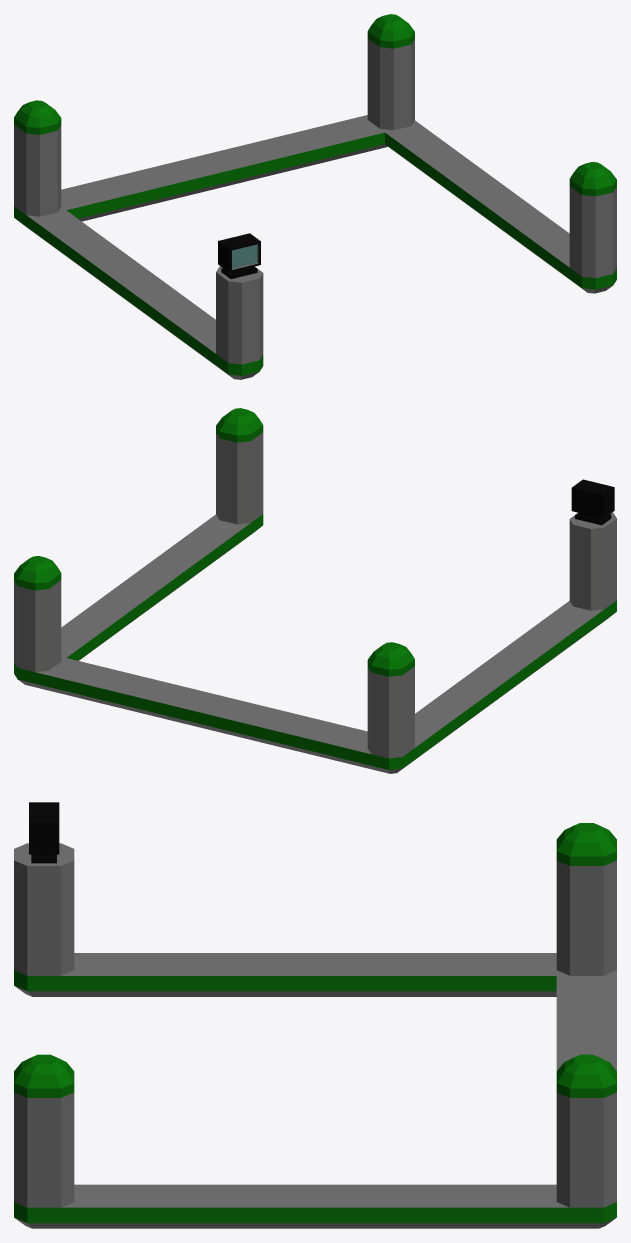
Rendered from structureSpawner.fbx.
3 renders of one model, top to bottom at view 1: azimuth 30°, elevation 25°; view 2: azimuth 150°, elevation 25°; view 3: azimuth 270°, elevation 25°, orthographic. The views are drawn at different scales.
Visible parts, largest first — view 1: pCube1; view 2: pCube1; view 3: pCube1.
Part boxes in pixels (x1,y1,x2,y2): pCube1: (14, 14, 616, 379); pCube1: (14, 408, 616, 773); pCube1: (14, 802, 616, 1228).
Size of the model in its own units: 3.86 by 1.26 by 3.86.
